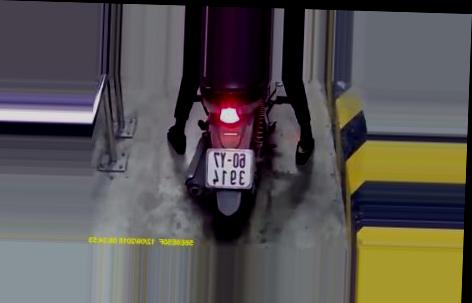License_Plate: (200, 146, 259, 190)
